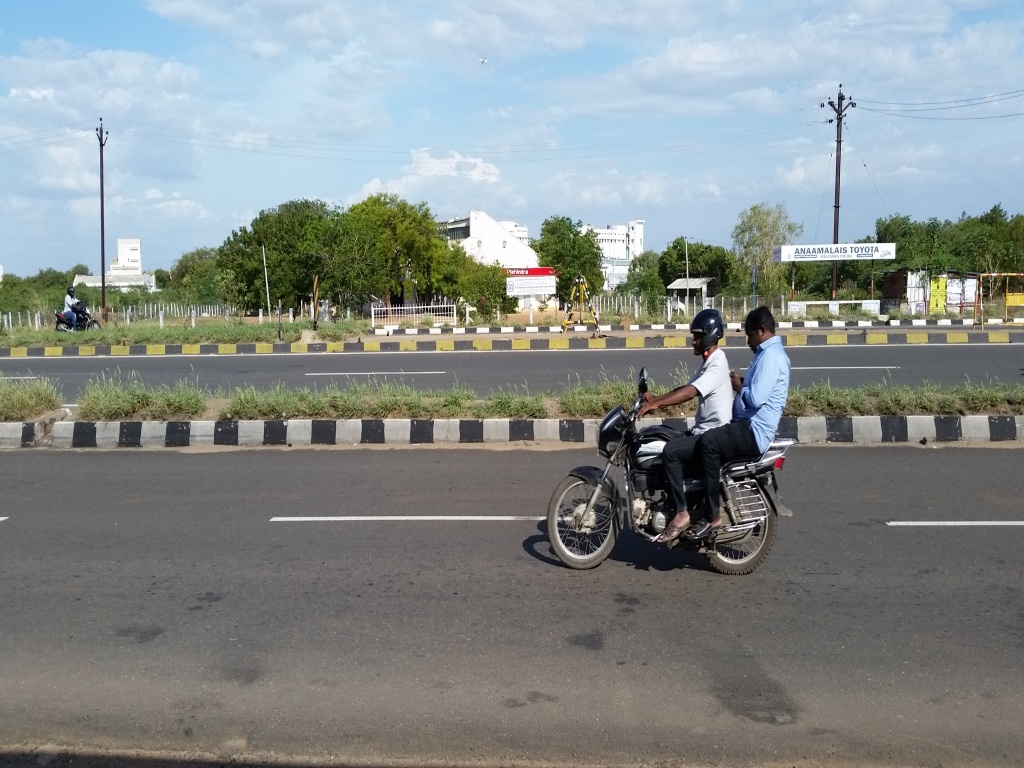biker: (525, 275, 828, 585)
helmet: (685, 296, 736, 370)
nohelmet: (736, 295, 787, 369)
